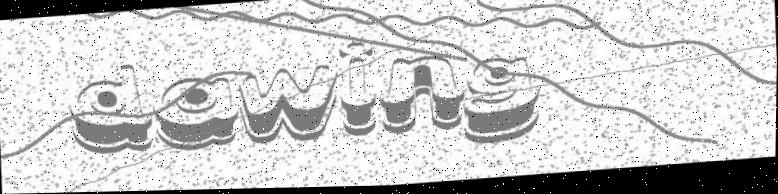a: (150, 75, 241, 153)
d: (68, 64, 155, 155)
g: (461, 58, 542, 146)
i: (338, 43, 379, 139)
n: (378, 56, 466, 136)
w: (237, 66, 339, 147)
